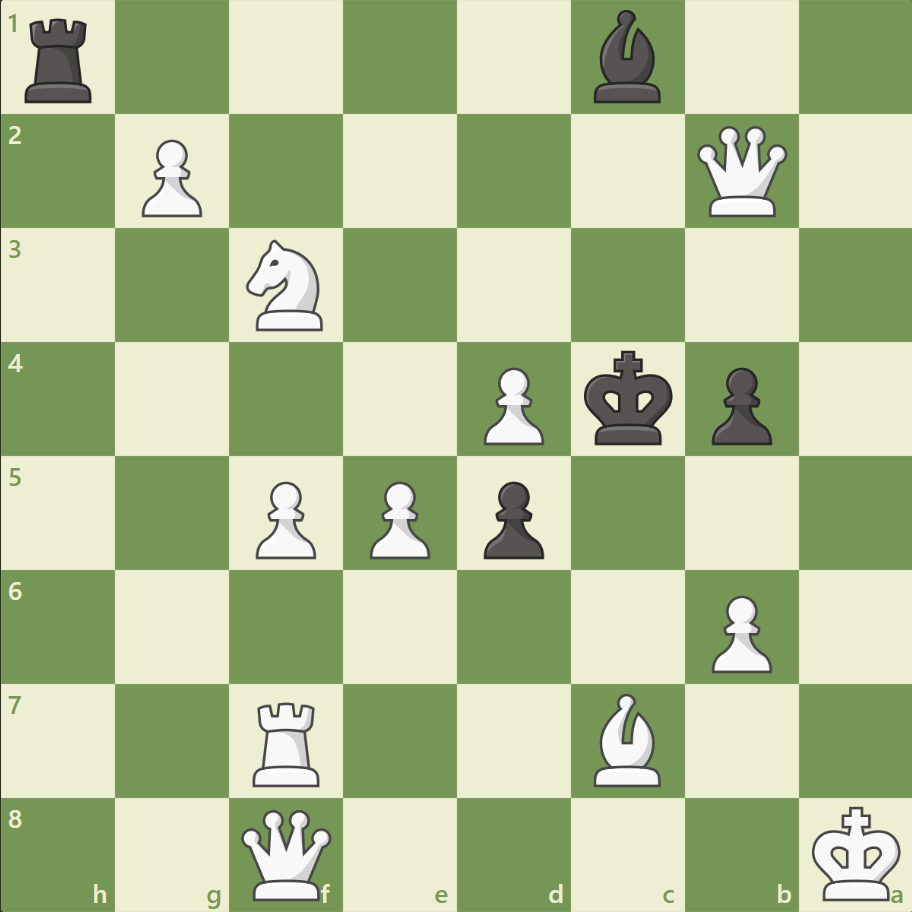B: (585, 687, 669, 790)
K: (806, 798, 906, 906)
N: (238, 234, 335, 337)
P: (701, 586, 776, 677), (247, 473, 322, 564), (474, 359, 549, 450), (133, 132, 208, 223), (361, 473, 435, 564)
Q: (691, 122, 790, 222), (237, 804, 336, 903)
R: (246, 693, 329, 790)
b: (585, 6, 669, 109)
k: (579, 344, 679, 452)
p: (474, 473, 549, 564), (701, 359, 776, 450)
r: (19, 12, 102, 109)
